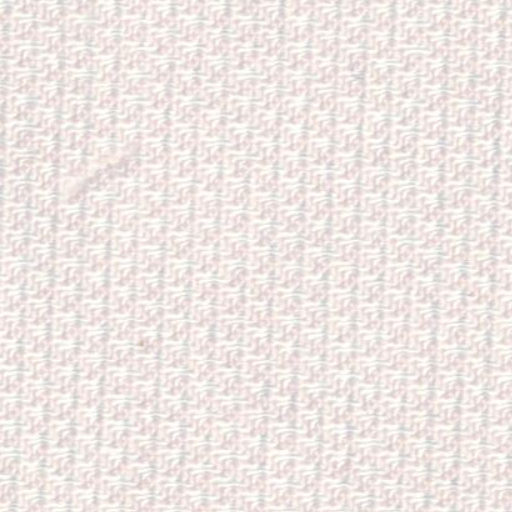DuanSha: (60, 150, 152, 210)
